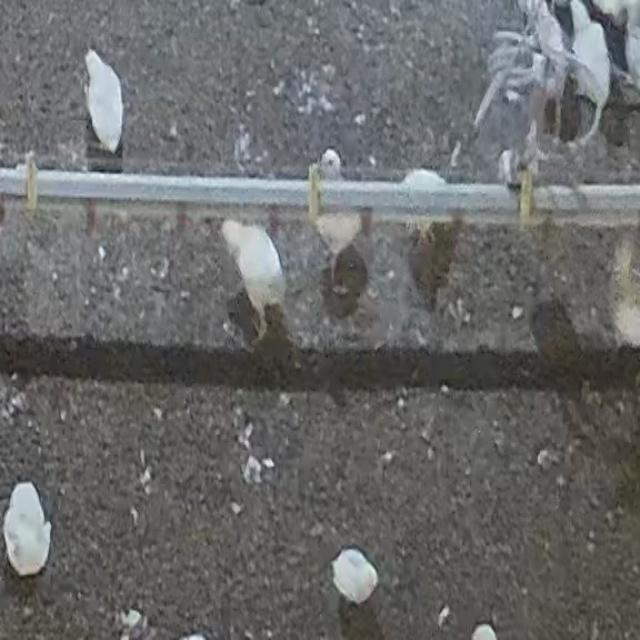chicken: (218, 216, 288, 348), (78, 44, 132, 158), (1, 479, 56, 583), (328, 543, 382, 609)
